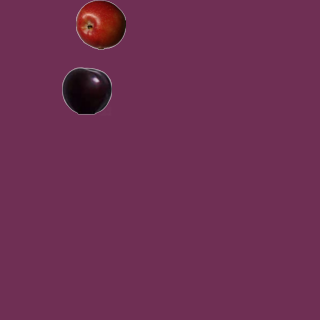Apple Braeburn: (75, 0, 125, 49)
Cherry Wax Black: (61, 65, 111, 115)
